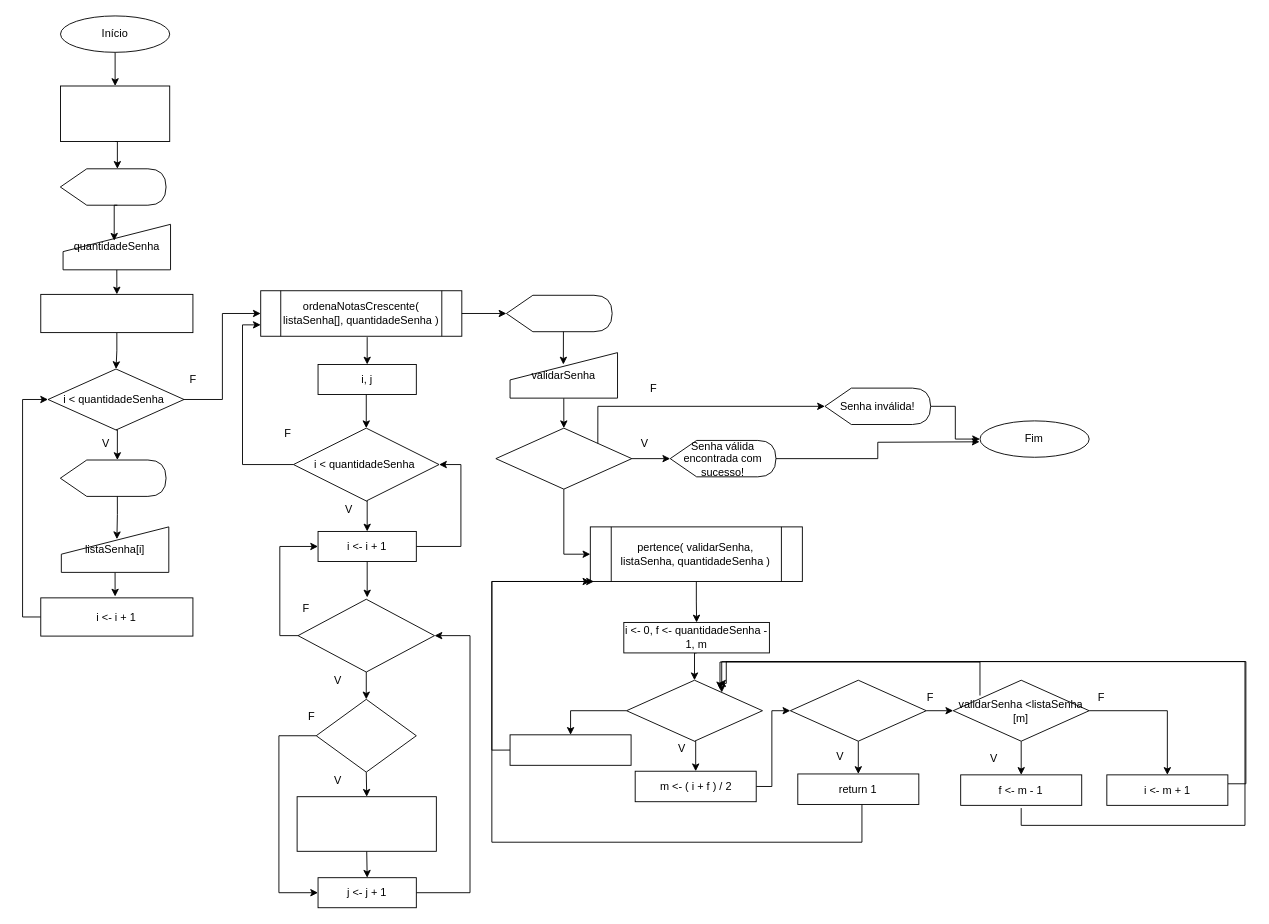
Image size: 1269x924. Some labels were removed from this diagram. Each missing label, with the box of its shape:
Digite a %d senha: i+1: (59, 459, 166, 496)
Digite a senha que queira válidar sua consulta:: (506, 294, 612, 332)
i <= f: (626, 679, 762, 741)
j < quantidadeSenha -i: (297, 598, 435, 672)
listaSenha[j] < listaSenha[j+1]: (315, 698, 416, 772)
listaSenha[quantidadeSenha]: (40, 293, 193, 333)
Quantas senhas serão cadastradas:: (59, 168, 166, 205)
quantidadeSenha = 0, i = 0, validarSenha = 0: (60, 85, 170, 142)
return 0: (509, 734, 631, 765)
validarSenha =listaSenha [m]: (789, 679, 926, 741)
x <- listaSenha[j]; listaSenha[j] <- listaSenha [j+1]; listaSenha [j+1] <- x;: (296, 796, 436, 851)
